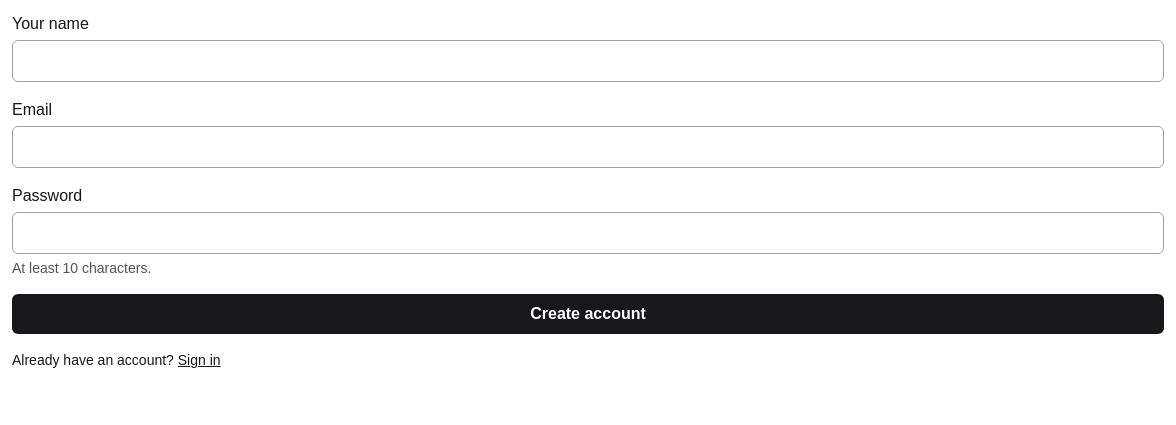
Scenario: RegisterForm › shows the server message when the email is taken
This screenshot has width=1176, height=425.
Type "Ada Demo" into the field labelled "Your name" at (588, 61), box [12,40,1164,82]
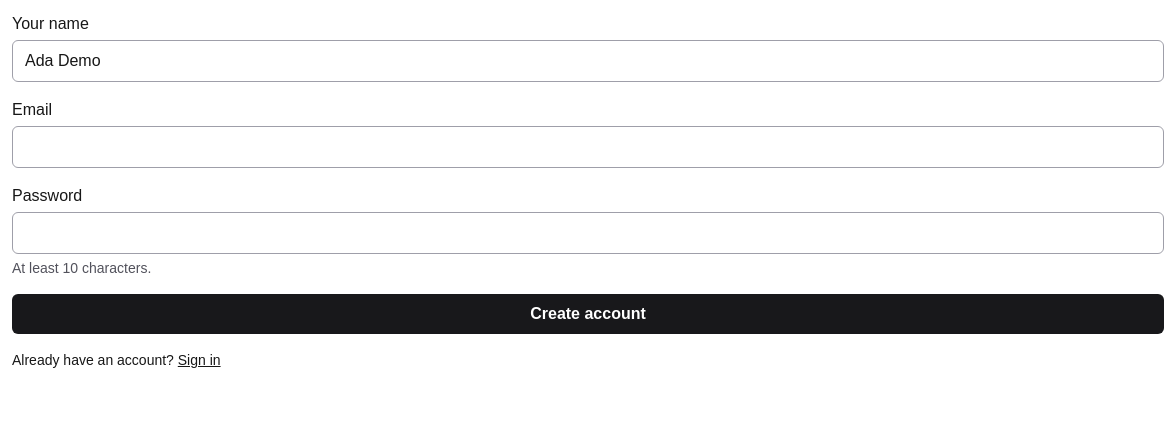
Type "ada@example.com" into the field labelled "Email" at (588, 147), box [12,126,1164,168]
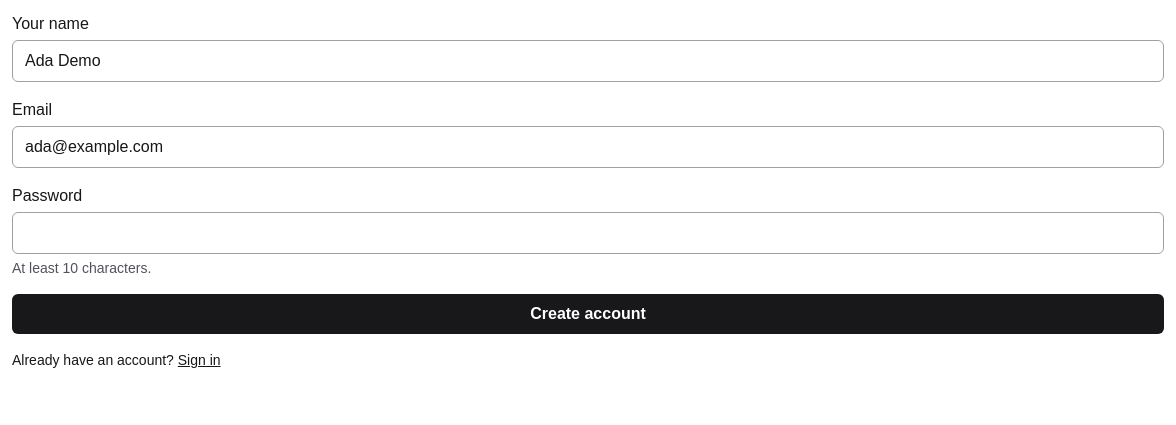
Type "correct-horse-battery" into the password field labelled "Password" at (588, 233), box [12,212,1164,254]
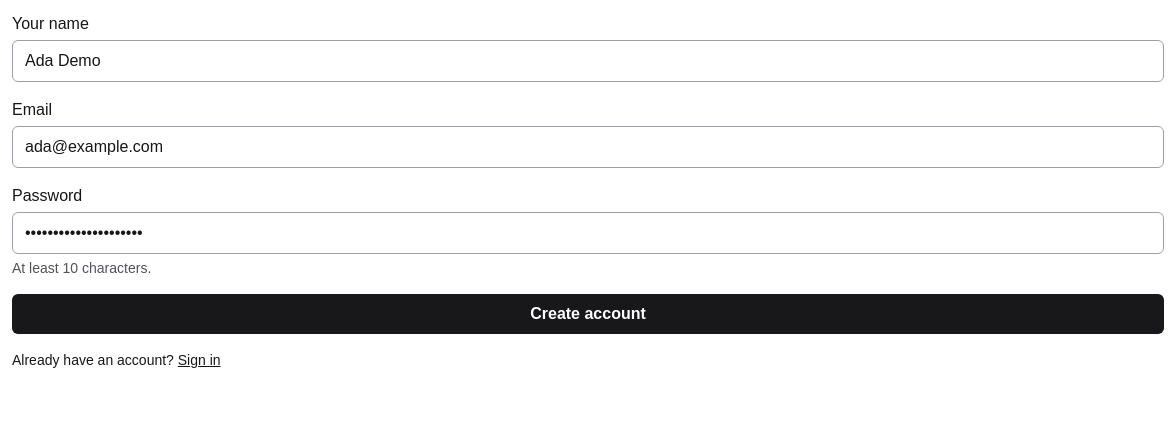
Click the button "Create account" at (588, 314), box [12,294,1164,334]
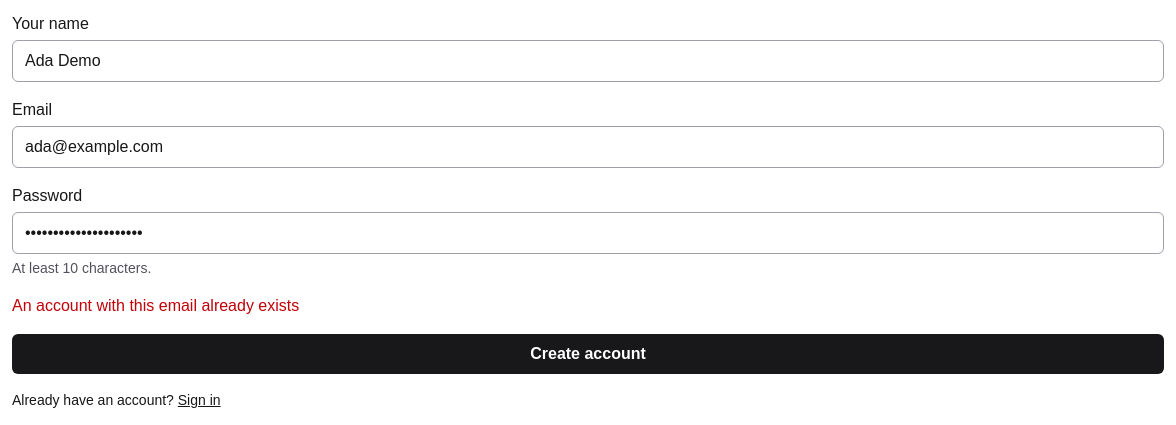
Check: the message reads "An account with this email already exists", box [12,297,299,314]
